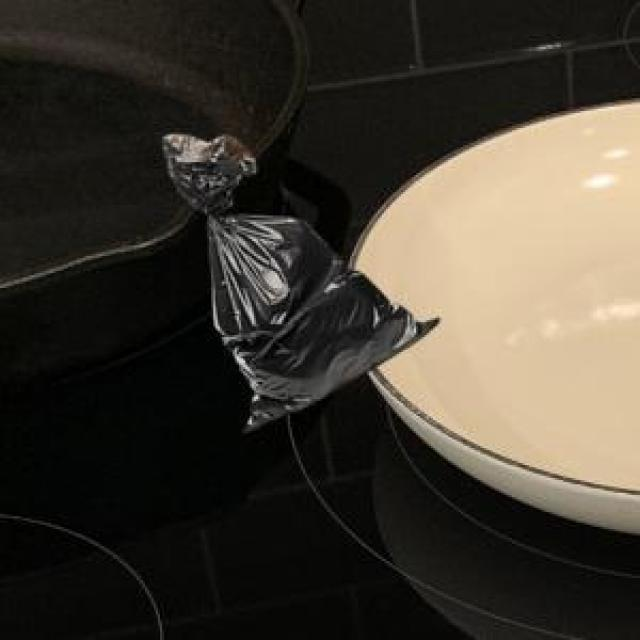waste: (162, 134, 438, 432)
